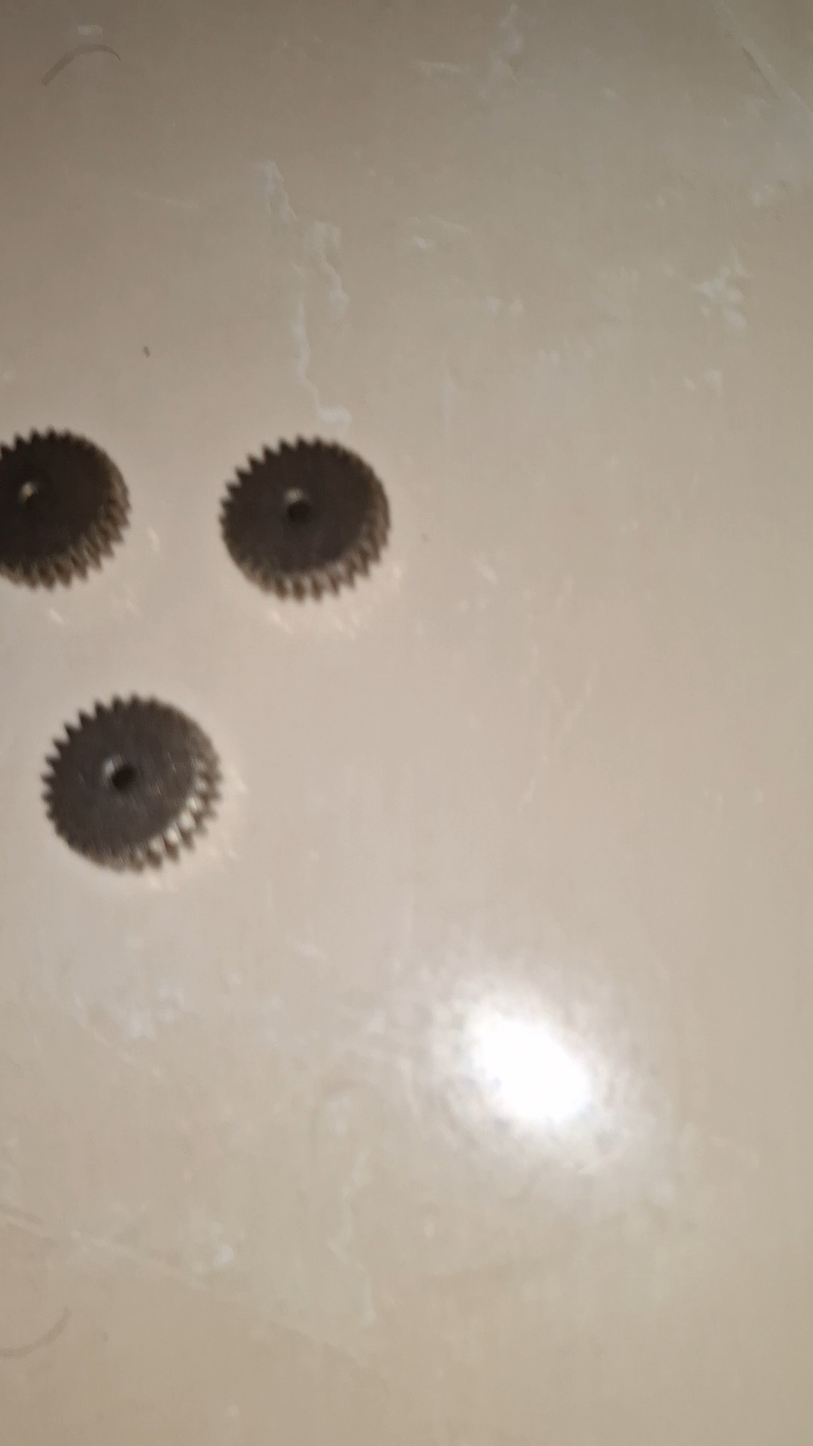spur gear: (43, 697, 219, 869), (221, 439, 389, 598), (0, 431, 129, 587)
